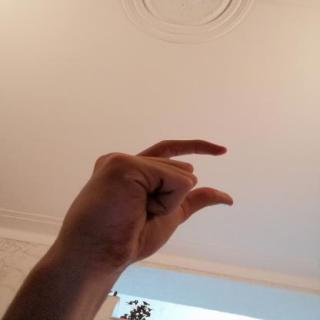DELL: (46, 129, 242, 282)
